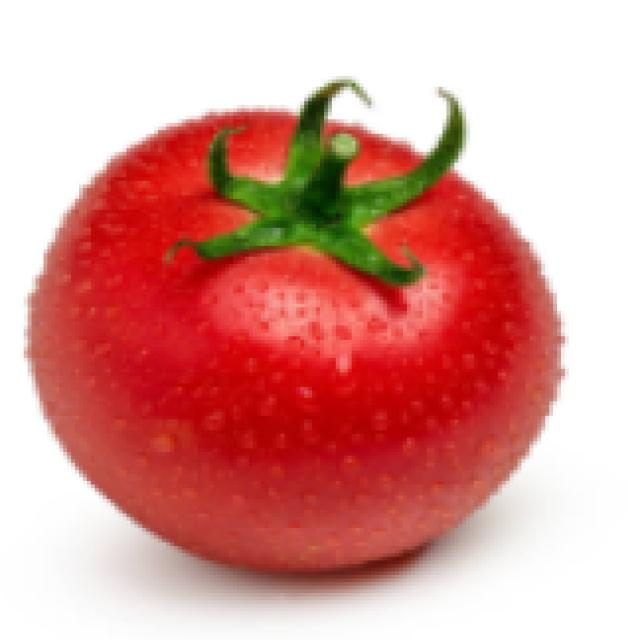Tomato: (68, 95, 550, 582)
